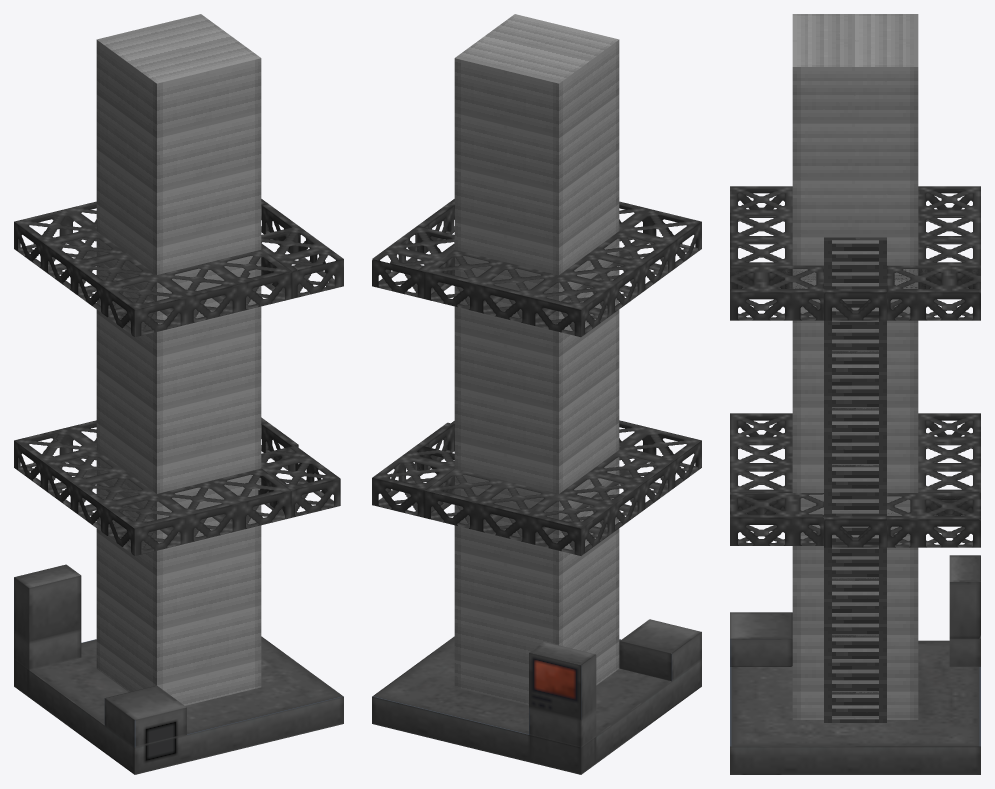
File: distillation_tower.obj
3 views of the same model, side by side, from view 1: azimuth 30°, elevation 25°; view 2: azimuth 150°, elevation 25°; view 3: azimuth 270°, elevation 25° (orthographic). The views are drawn at different scales.
Visible parts, largest first — view 1: slab_base, tower12, scaffold_base2, scaffold_base1, tower10, tower6, tower11, tower3, tower2, tower7, tower9, tower5 (+10 smaller); view 2: slab_base, tower12, scaffold_base2, scaffold_base1, tower10, tower6, tower11, tower3, tower7, tower2, tower5, tower9 (+10 smaller); view 3: slab_base, tower12, scaffold_base2, scaffold_base1, tower11, tower10, tower6, tower2, tower3, scaffold_base2-1, scaffold_base2-2, tower7 (+21 smaller).
Part boxes in pixels (x1,y1,x2,y2): slab_base: (14, 636, 343, 774); tower12: (96, 14, 261, 138); scaffold_base2: (14, 201, 291, 337); scaffold_base1: (14, 420, 291, 555); tower10: (96, 149, 261, 247); tower6: (96, 368, 261, 466); tower11: (96, 94, 261, 192); tower3: (96, 532, 261, 630); tower2: (96, 587, 261, 685); tower7: (96, 313, 261, 411); tower9: (96, 204, 261, 301); tower5: (96, 423, 261, 519); slab_base: (372, 636, 701, 774); tower12: (454, 14, 619, 138); scaffold_base2: (424, 201, 701, 337); scaffold_base1: (424, 420, 701, 555); tower10: (454, 149, 619, 247); tower6: (454, 368, 619, 466); tower11: (454, 94, 619, 192); tower3: (454, 532, 619, 630); tower7: (454, 313, 619, 411); tower2: (454, 587, 619, 677); tower5: (454, 423, 619, 519); tower9: (454, 204, 619, 301); slab_base: (730, 640, 980, 774); tower12: (792, 14, 918, 123); scaffold_base2: (730, 186, 980, 293); scaffold_base1: (730, 413, 980, 520); tower11: (792, 123, 918, 180); tower10: (792, 180, 918, 237); tower6: (792, 407, 918, 464); tower2: (792, 635, 918, 691); tower3: (792, 578, 918, 634); scaffold_base2-1: (730, 265, 823, 320); scaffold_base2-2: (887, 265, 980, 320); tower7: (792, 351, 918, 407).
Size of the model in its own units: 4 by 12 by 4.
